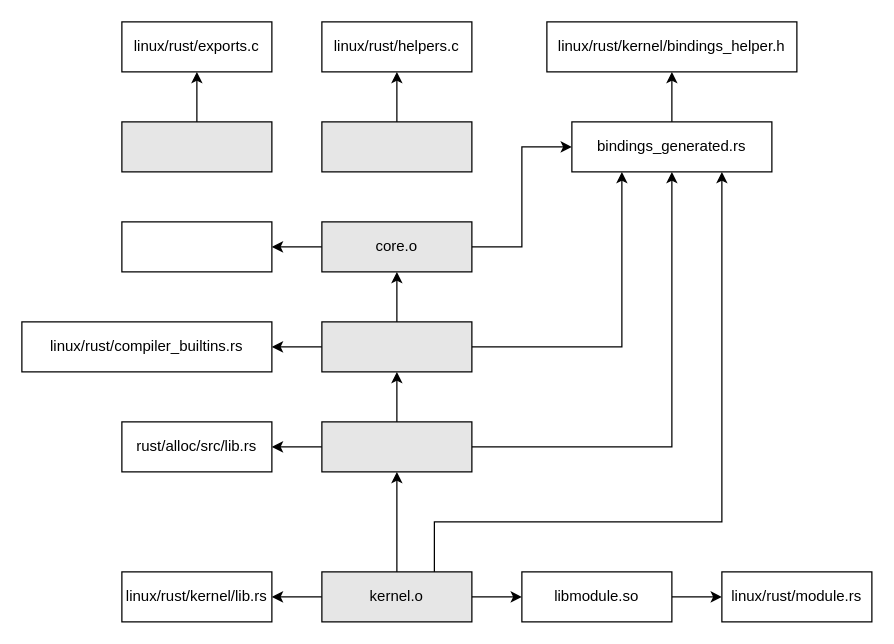
Image size: 894x644. Some labels were removed from this diagram. The centre of each missing label's shape, as x and y in pixels:
"alloc.o" belongs at (x=396, y=446).
"compiler_builtins.o" belongs at (x=396, y=346).
"exports.o" belongs at (x=196, y=146).
"helpers.o" belongs at (x=396, y=146).
"rust/core/src/lib.rs" belongs at (x=196, y=246).
